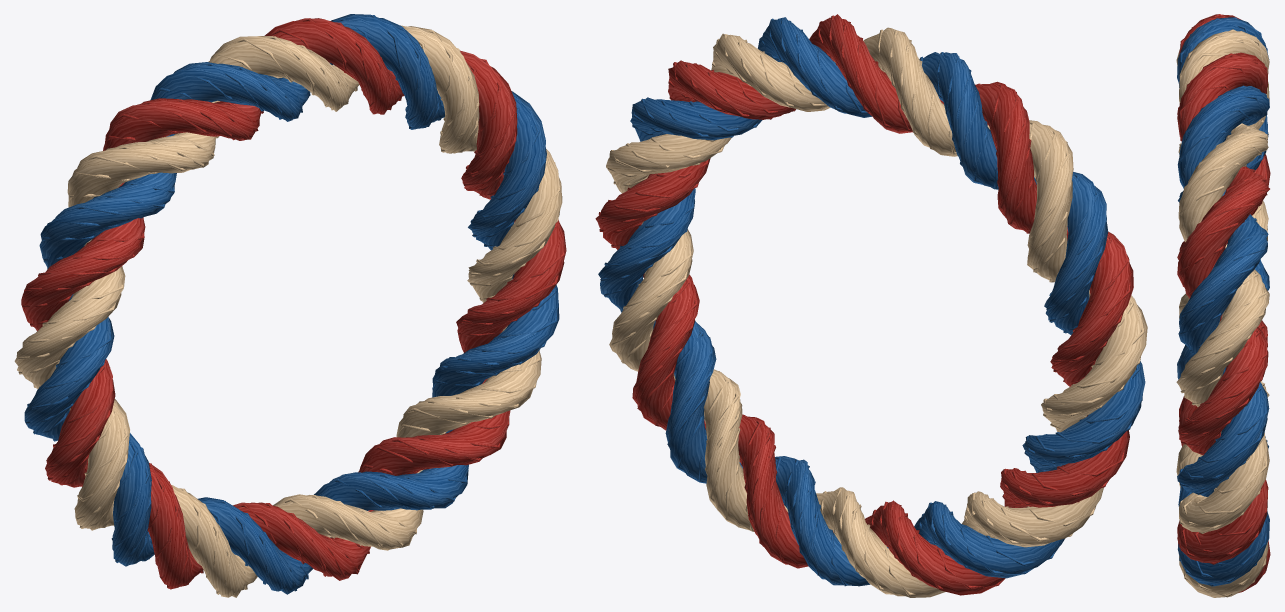
Rendered from braided-rope-ring.glb.
The picture shows the model from 3 angles, left to right: view 1: azimuth 30°, elevation 25°; view 2: azimuth 150°, elevation 25°; view 3: azimuth 270°, elevation 25°; orthographic projection. The views are drawn at different scales.
Parts seen in each view (by area): view 1: Blue cotton rope braided strand, Oat cotton rope braided strand, Red cotton rope braided strand, Red cotton rope twisted fibers, Blue cotton rope twisted fibers, Oat cotton rope twisted fibers; view 2: Blue cotton rope braided strand, Oat cotton rope braided strand, Red cotton rope braided strand, Red cotton rope twisted fibers, Blue cotton rope twisted fibers, Oat cotton rope twisted fibers; view 3: Blue cotton rope braided strand, Oat cotton rope braided strand, Red cotton rope braided strand, Blue cotton rope twisted fibers, Oat cotton rope twisted fibers, Red cotton rope twisted fibers.
Part boxes in pixels (left/top/right/bottom): Blue cotton rope braided strand: left=24, top=14, right=559, bottom=594; Oat cotton rope braided strand: left=14, top=25, right=562, bottom=597; Red cotton rope braided strand: left=21, top=18, right=566, bottom=589; Red cotton rope twisted fibers: left=22, top=18, right=564, bottom=588; Blue cotton rope twisted fibers: left=25, top=15, right=557, bottom=591; Oat cotton rope twisted fibers: left=16, top=26, right=560, bottom=594; Blue cotton rope braided strand: left=598, top=17, right=1145, bottom=586; Oat cotton rope braided strand: left=606, top=27, right=1147, bottom=597; Red cotton rope braided strand: left=595, top=14, right=1133, bottom=595; Red cotton rope twisted fibers: left=598, top=15, right=1130, bottom=589; Blue cotton rope twisted fibers: left=600, top=18, right=1142, bottom=586; Oat cotton rope twisted fibers: left=608, top=29, right=1144, bottom=595; Blue cotton rope braided strand: left=1177, top=17, right=1269, bottom=586; Oat cotton rope braided strand: left=1176, top=31, right=1269, bottom=597; Red cotton rope braided strand: left=1177, top=14, right=1270, bottom=592; Blue cotton rope twisted fibers: left=1179, top=17, right=1267, bottom=586; Oat cotton rope twisted fibers: left=1179, top=29, right=1267, bottom=597; Red cotton rope twisted fibers: left=1179, top=14, right=1267, bottom=576.
Bounding box in the file's own units: 0.3259 × 0.3178 × 0.0524.
Materials: 3 (3 with a texture image).
